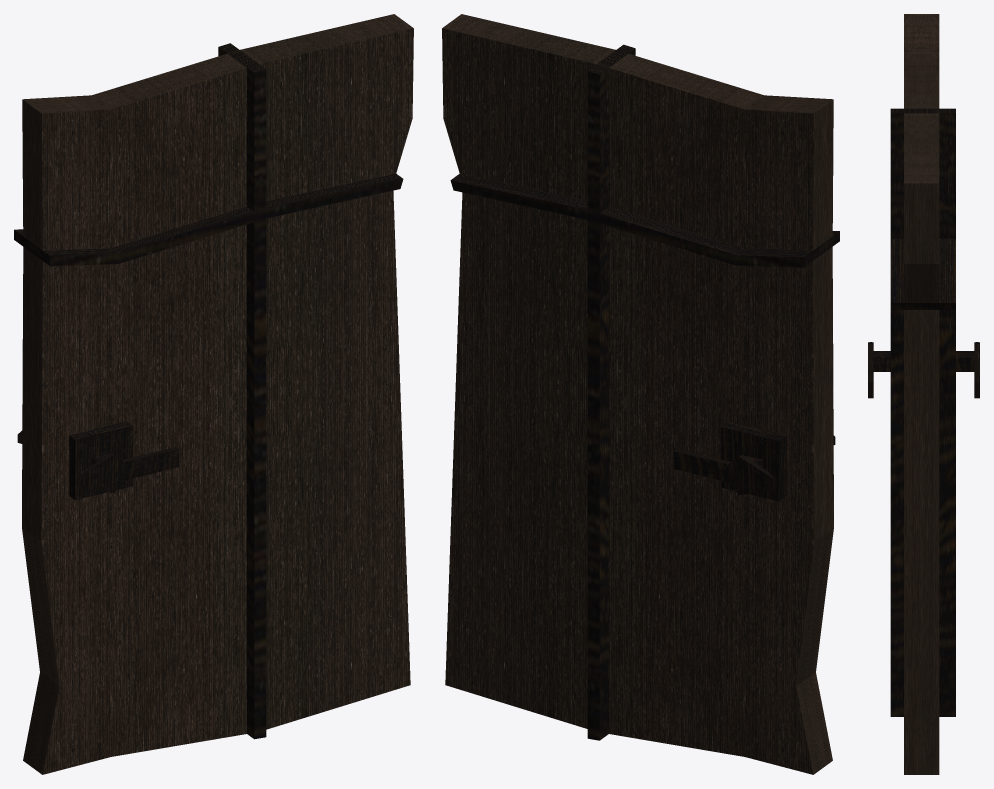
The model's file is door.fbx.
The picture shows the model from 3 angles, left to right: view 1: azimuth 30°, elevation 25°; view 2: azimuth 150°, elevation 25°; view 3: azimuth 270°, elevation 25°; orthographic projection. The views are drawn at different scales.
Parts seen in each view (by area): view 1: Cube.001; view 2: Cube.001; view 3: Cube.001.
Boxes of the visible parts, <box> form: Cube.001: <box>14,14,413,774</box>; Cube.001: <box>442,14,839,774</box>; Cube.001: <box>868,14,979,774</box>.
Bounding box in the file's own units: 301 × 518 × 86.54.
2 materials, 2 textured.
